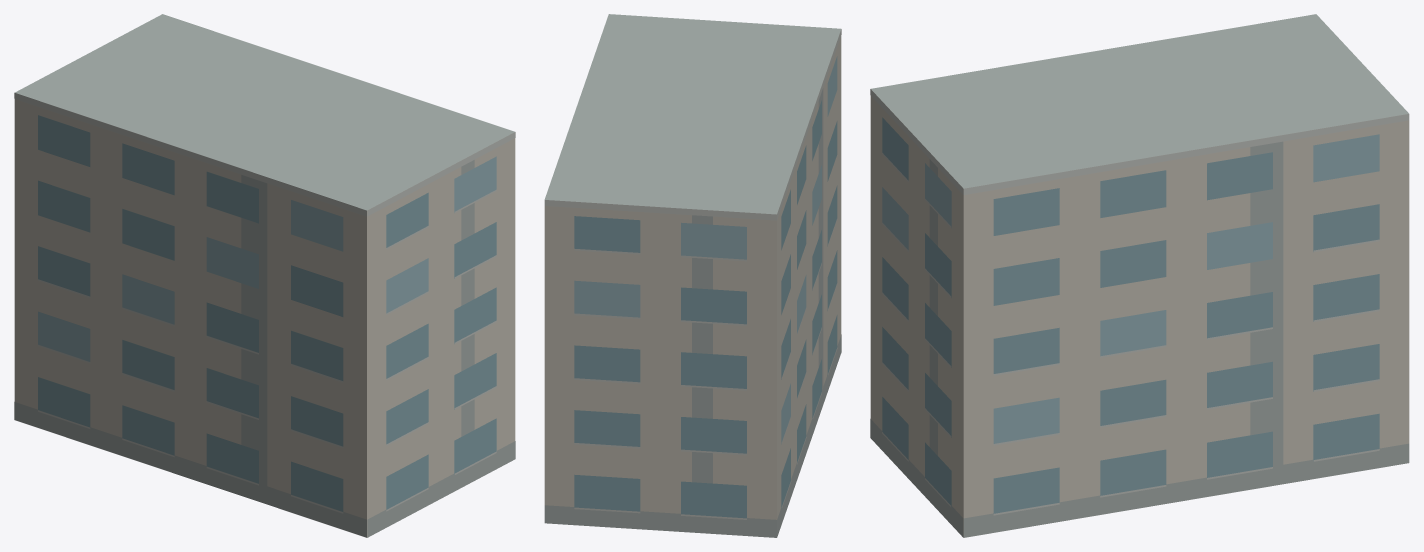
The model's file is survey-upis-32888475.glb.
The picture shows the model from 3 angles, left to right: view 1: azimuth 30°, elevation 25°; view 2: azimuth 150°, elevation 25°; view 3: azimuth 270°, elevation 25°; orthographic projection. The views are drawn at different scales.
Parts seen in each view (by area): view 1: survey-upis-32888475.tmp; view 2: survey-upis-32888475.tmp; view 3: survey-upis-32888475.tmp.
Part boxes in pixels (x1,y1,x2,y2): survey-upis-32888475.tmp: [14, 14, 515, 537]; survey-upis-32888475.tmp: [544, 14, 841, 537]; survey-upis-32888475.tmp: [870, 14, 1409, 537].
Size of the model in its own units: 13.96 by 13 by 18.19.
